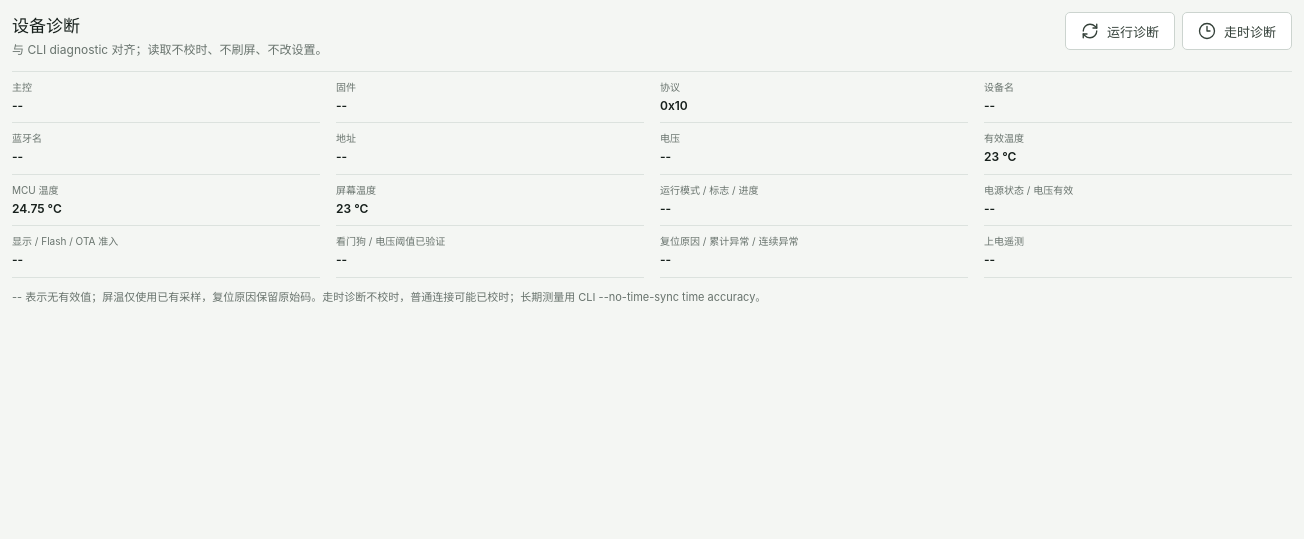
Test: uses dashes for invalid device time but retains the raw clock sample and warning
Click the button "走时诊断": point(1237, 31) top-left (1182, 12), bottom-right (1292, 50)
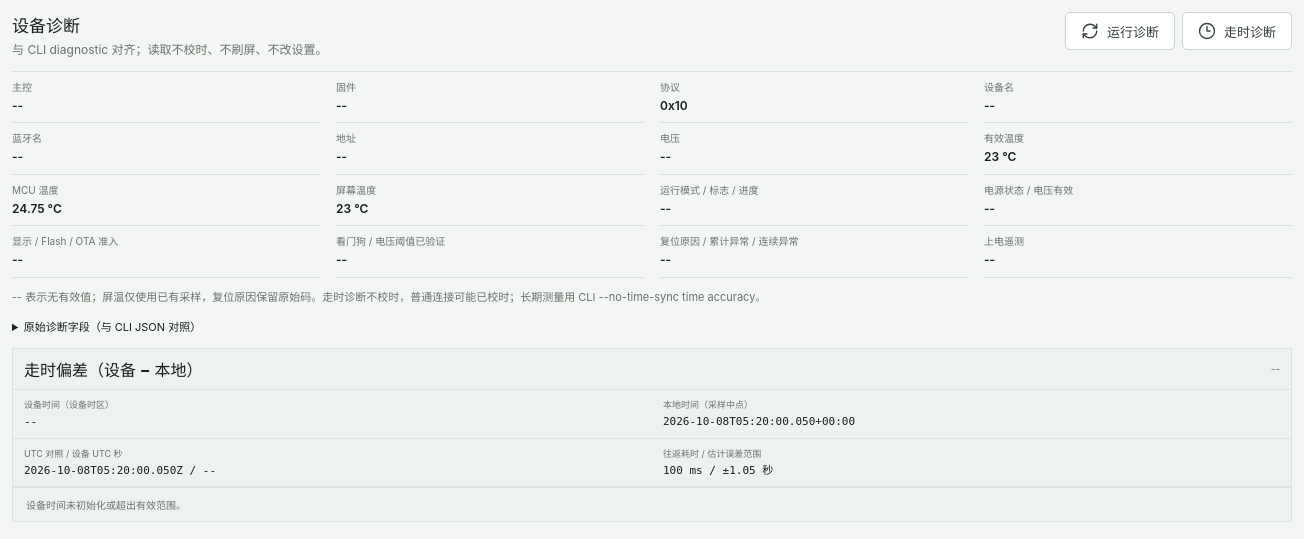
Expected: the text "--" below "设备时间（设备时区）" is shown, top-left (24, 415), bottom-right (37, 428)
Expected: the text "设备时间未初始化或超出有效范围" is shown, top-left (26, 499), bottom-right (186, 511)
